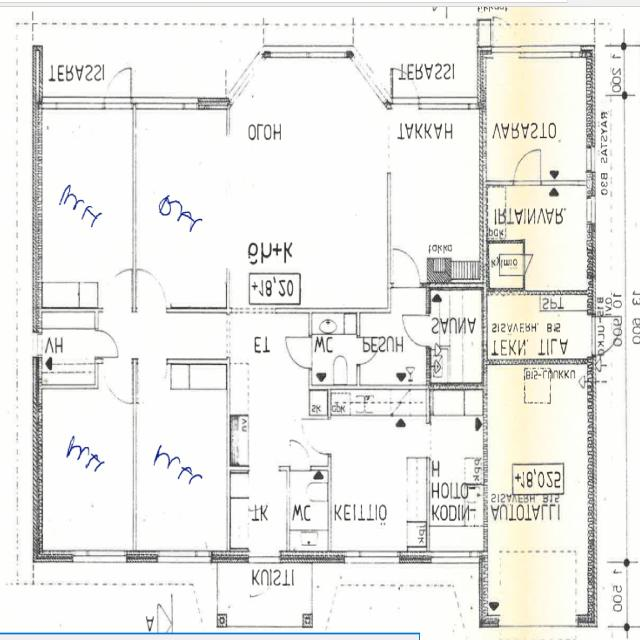door: (251, 552, 280, 604), (588, 317, 625, 355), (138, 359, 168, 403), (103, 268, 132, 312), (103, 359, 132, 402), (138, 268, 166, 312), (250, 466, 279, 508), (514, 144, 541, 186), (106, 63, 131, 108), (393, 64, 418, 109), (493, 13, 518, 58), (394, 247, 421, 288), (303, 419, 332, 454), (403, 315, 431, 346), (286, 337, 312, 368), (95, 330, 118, 358), (357, 337, 380, 363), (292, 441, 310, 470), (522, 255, 540, 274)
